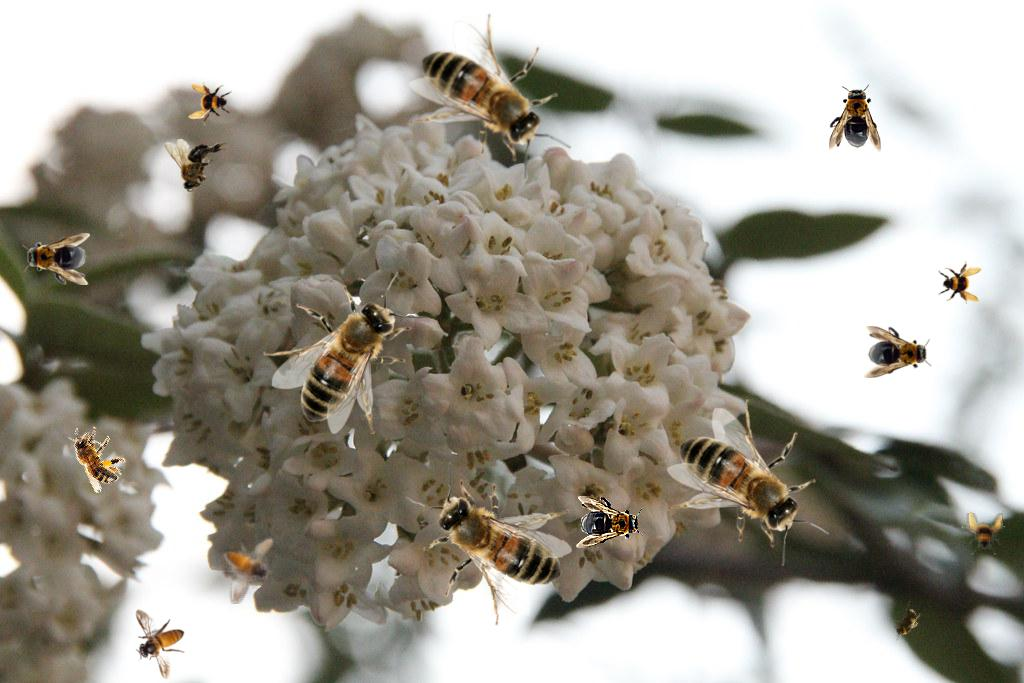Bee: (403, 454, 578, 632), (667, 399, 829, 566), (409, 13, 571, 180), (263, 272, 430, 434), (205, 523, 293, 606), (56, 415, 134, 496), (135, 609, 185, 680), (864, 326, 932, 378), (576, 496, 644, 548), (829, 84, 881, 152), (22, 233, 90, 285), (165, 139, 227, 192), (938, 260, 982, 304), (961, 511, 1005, 555), (188, 82, 232, 126), (885, 600, 927, 646)
